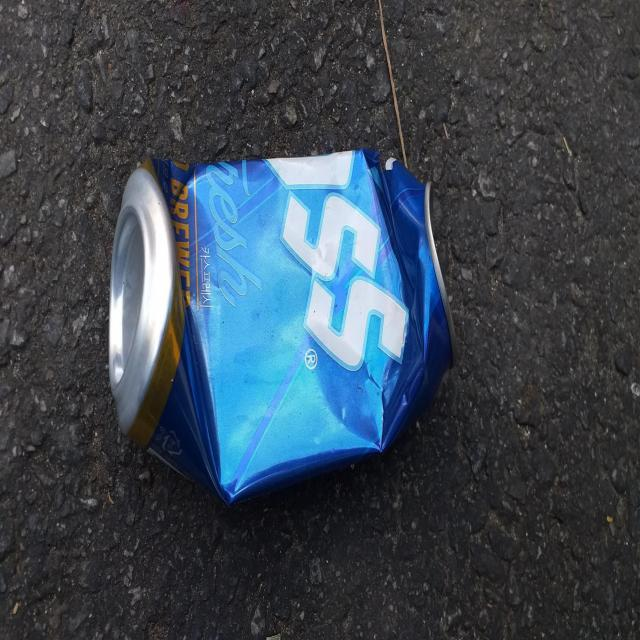can: (108, 149, 457, 504)
